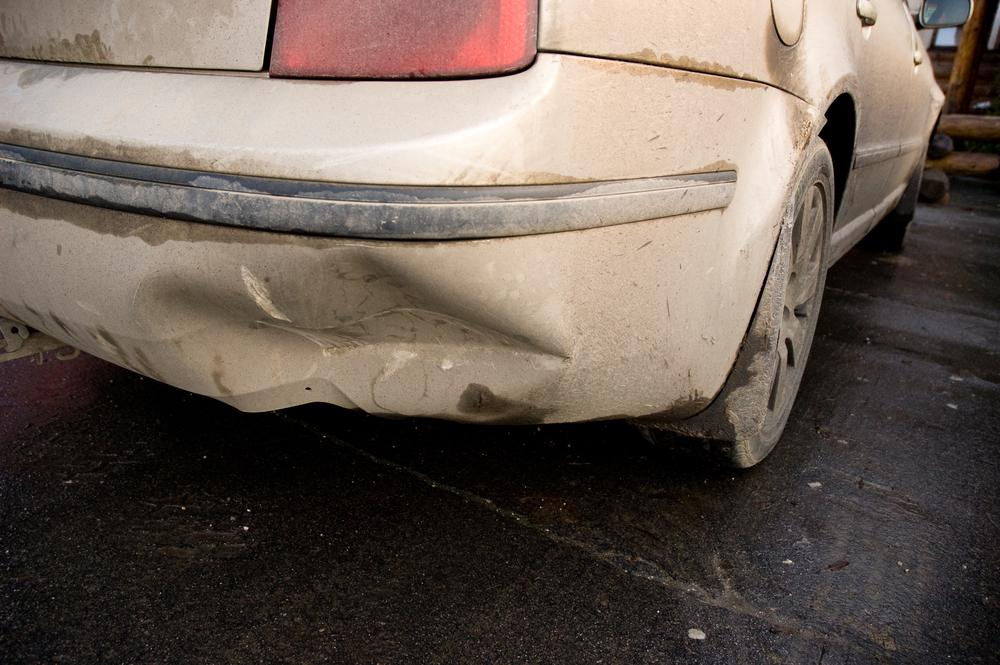dent: (138, 251, 564, 418)
